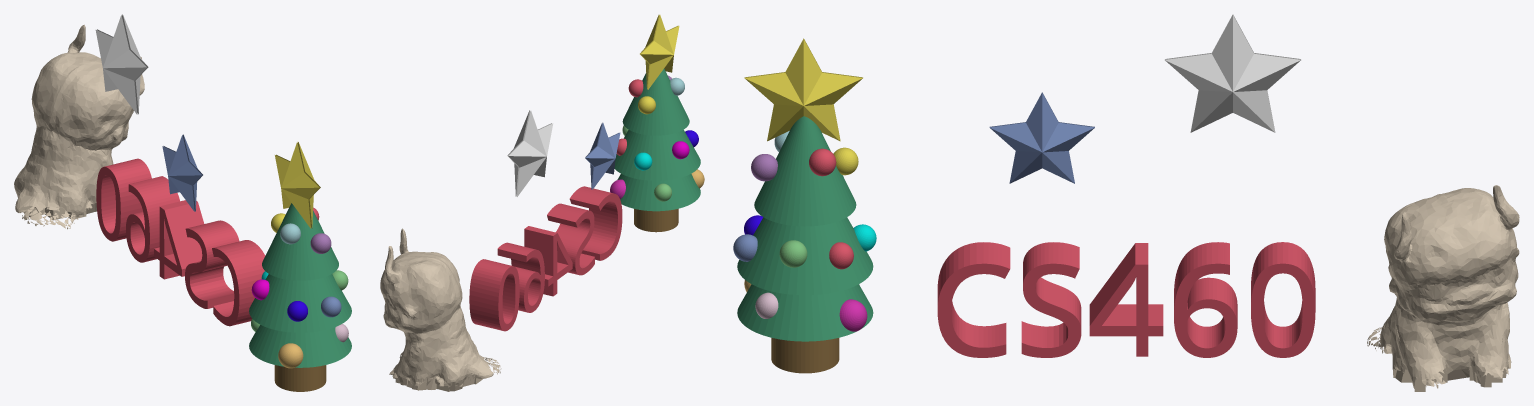
The model's file is tinkercad.glb.
The picture shows the model from 3 angles, left to right: view 1: azimuth 30°, elevation 25°; view 2: azimuth 150°, elevation 25°; view 3: azimuth 270°, elevation 25°; orthographic projection. The views are drawn at different scales.
Visible parts, largest first — view 1: Mesh_Mesh_head_geo.001_lambert2SG.001; view 2: Mesh_Mesh_head_geo.001_lambert2SG.001; view 3: Mesh_Mesh_head_geo.001_lambert2SG.001.
Boxes of the visible parts, x1,y1,x2,y2 form: Mesh_Mesh_head_geo.001_lambert2SG.001: (14,14,351,391); Mesh_Mesh_head_geo.001_lambert2SG.001: (380,14,704,391); Mesh_Mesh_head_geo.001_lambert2SG.001: (733,14,1519,391).
Size of the model in its own units: 0.0334 by 0.0688 by 0.1468.
